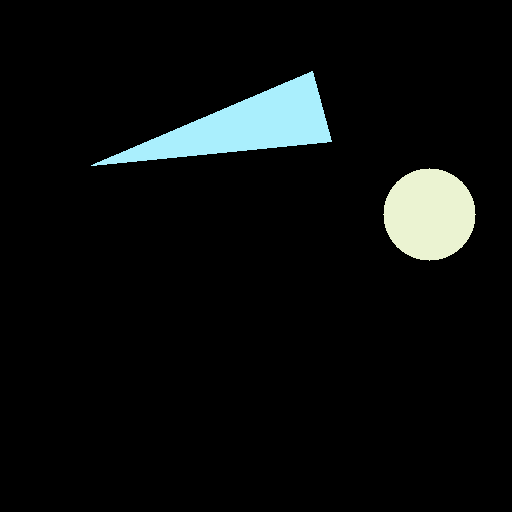circle: (383, 168, 475, 260)
triangle: (91, 71, 331, 165)
